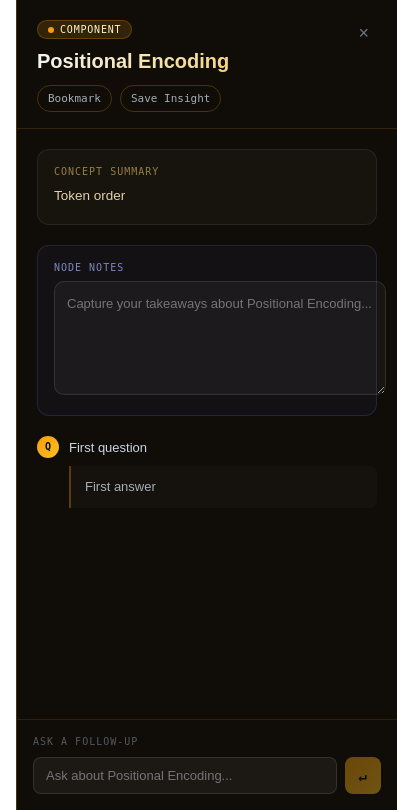
saved concept conversations › sends the session and role-based history when asking a follow-up
expect the text "First answer" is shown: met, box [85, 479, 156, 494]
Type "Explain further" into the field with placeholder "Ask about Positional Encoding...". click: [185, 776]
box: [33, 757, 337, 794]
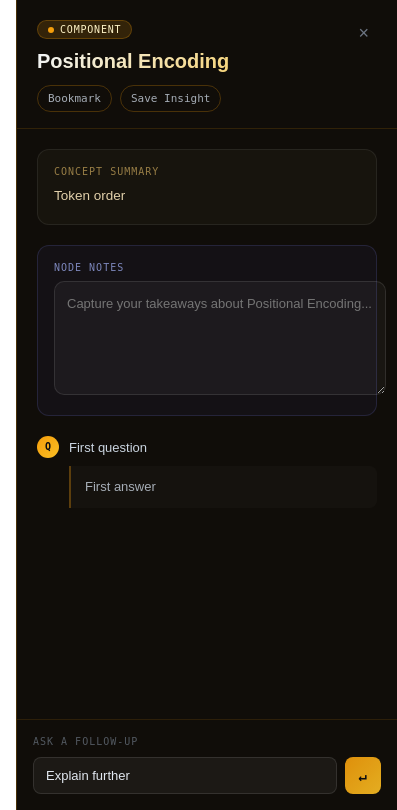
Click the button "↵". click: [363, 776]
box: [345, 757, 381, 794]
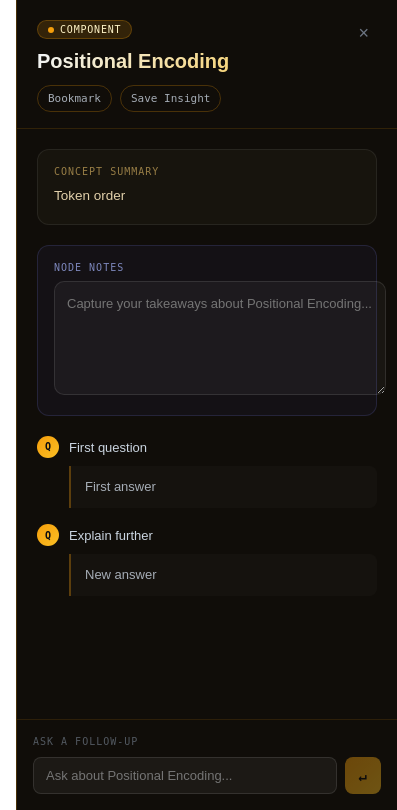
expect the text "New answer" is shown: met, box [85, 567, 156, 582]
